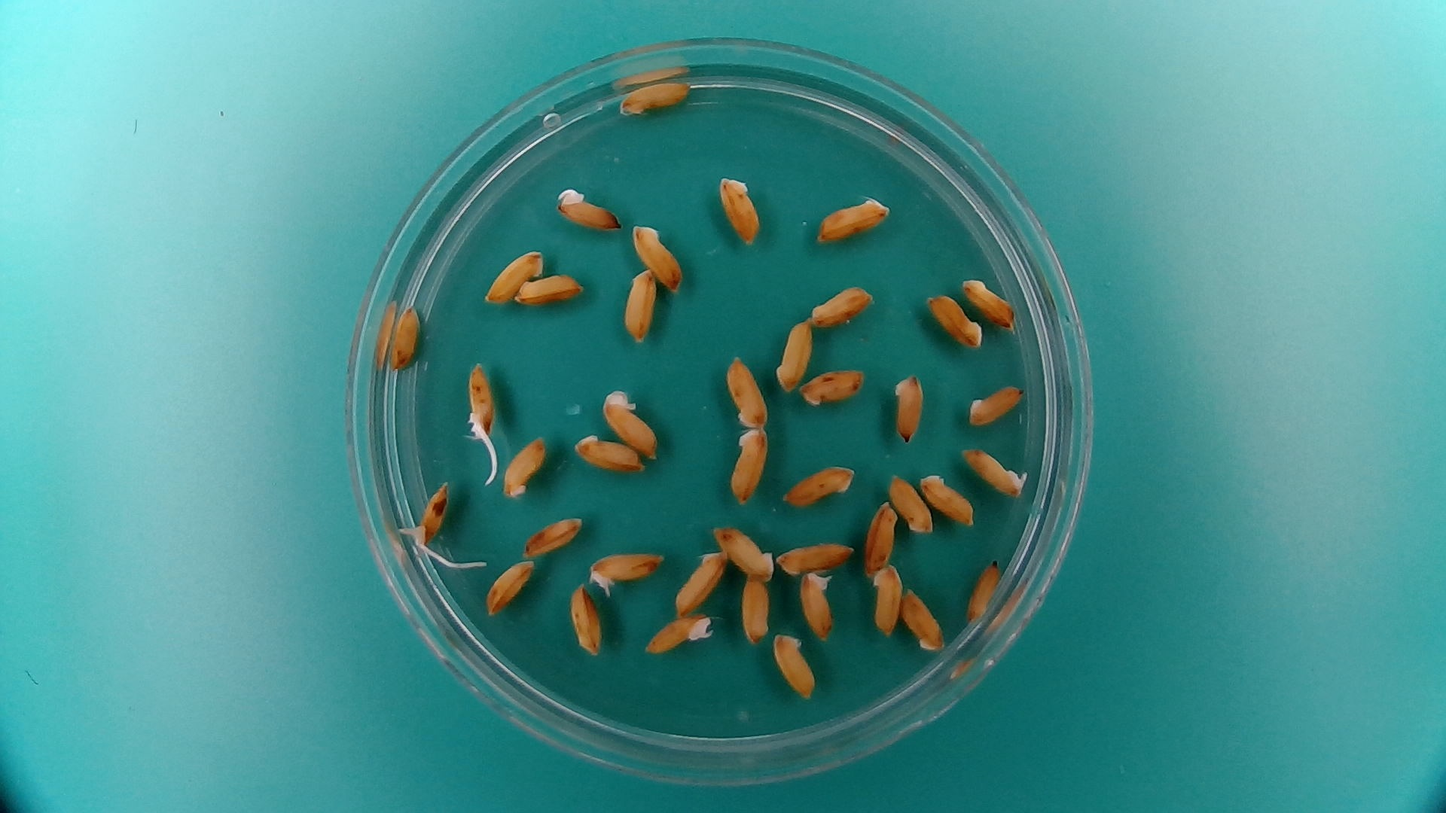no: (598, 385, 661, 460), (811, 192, 892, 245), (672, 546, 727, 619), (630, 220, 685, 293), (480, 246, 545, 306), (712, 521, 775, 581), (780, 460, 859, 507), (724, 351, 770, 431), (923, 290, 985, 349), (726, 424, 770, 507), (916, 470, 978, 528), (715, 171, 762, 246), (775, 536, 859, 577), (769, 629, 816, 702), (499, 431, 548, 500), (959, 273, 1017, 330), (570, 430, 646, 473), (483, 556, 536, 617), (898, 583, 944, 653), (520, 511, 586, 559), (617, 76, 693, 117), (798, 364, 870, 407), (807, 282, 875, 327), (862, 496, 898, 580), (886, 470, 933, 534), (620, 265, 657, 346), (965, 381, 1027, 427), (567, 580, 604, 657), (964, 556, 1004, 626), (514, 269, 587, 306), (869, 562, 903, 639), (891, 370, 925, 446), (388, 303, 422, 373), (739, 575, 771, 646)
yes: (585, 547, 667, 596), (958, 443, 1030, 498), (553, 185, 624, 232), (641, 611, 714, 656), (462, 358, 497, 445), (798, 565, 838, 638), (407, 477, 450, 543)
